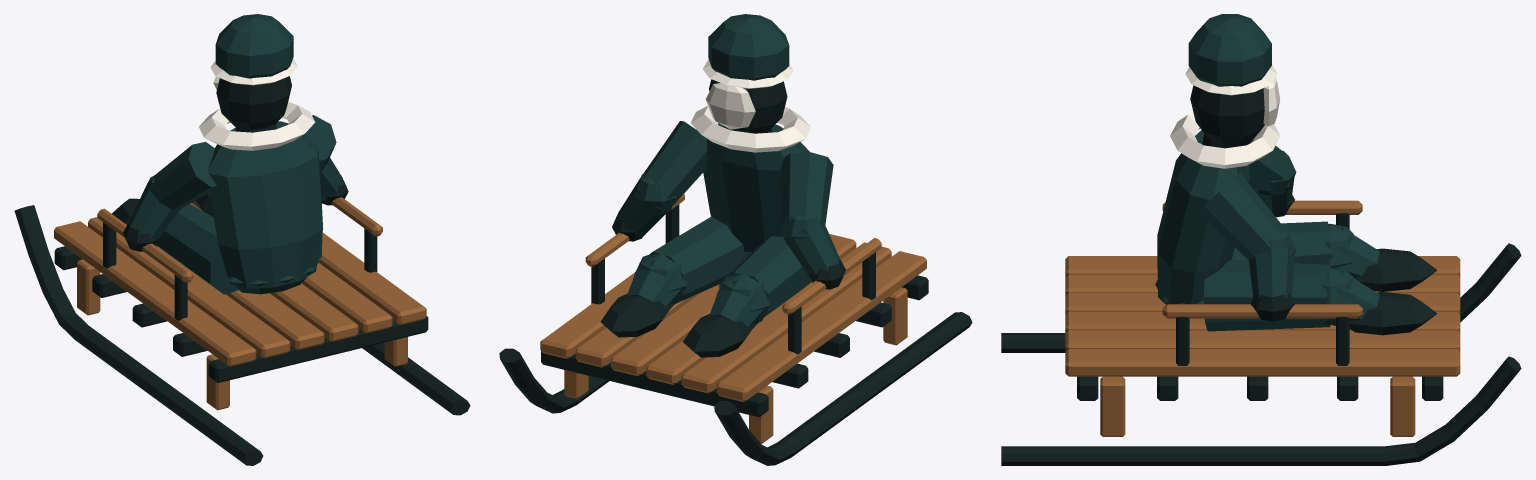
File: sled_rider.glb
3 views of the same model, side by side, from view 1: azimuth 30°, elevation 25°; view 2: azimuth 150°, elevation 25°; view 3: azimuth 270°, elevation 25° (orthographic). The views are drawn at different scales.
Parts seen in each view (by area): view 1: jacketTorso, runnerLeft, deckSlat_01, deckSlat_02, winterCap, thighLeft, crossMember_01, deckSlat_06, head, upperArmLeft, creamScarf, deckSlat_05 (+21 smaller); view 2: jacketTorso, deckSlat_01, runnerLeft, winterCap, deckSlat_02, thighRight, upperArmLeft, deckSlat_04, upperArmRight, thighLeft, crossMember_05, creamScarf (+29 smaller); view 3: runnerRight, deckSlat_06, jacketTorso, deckSlat_05, winterCap, thighRight, upperArmRight, head, deckSlat_04, runnerLeft, creamScarf, deckSlat_02 (+27 smaller).
Boxes of the visible parts, box(x1,y1,x2,y2) form: jacketTorso: box(208, 121, 322, 288); runnerLeft: box(14, 205, 263, 465); deckSlat_01: box(54, 221, 256, 366); deckSlat_02: box(88, 213, 290, 358); winterCap: box(215, 14, 293, 78); thighLeft: box(155, 204, 238, 294); crossMember_01: box(208, 316, 428, 382); deckSlat_06: box(319, 232, 426, 325); head: box(216, 76, 291, 129); upperArmLeft: box(149, 142, 216, 210); creamScarf: box(199, 102, 315, 150); deckSlat_05: box(192, 201, 392, 333); jacketTorso: box(703, 123, 809, 252); deckSlat_01: box(717, 251, 926, 402); runnerLeft: box(714, 312, 972, 465); winterCap: box(708, 14, 789, 80); deckSlat_02: box(681, 242, 891, 393); thighRight: box(648, 217, 744, 303); upperArmLeft: box(780, 152, 833, 226); deckSlat_04: box(611, 284, 719, 376); upperArmRight: box(643, 121, 707, 205); thighLeft: box(719, 236, 811, 317); crossMember_05: box(541, 351, 768, 417); creamScarf: box(691, 106, 811, 152); runnerRight: box(1001, 356, 1521, 465); deckSlat_06: box(1065, 349, 1460, 376); jacketTorso: box(1157, 130, 1249, 304); deckSlat_05: box(1065, 330, 1460, 351); winterCap: box(1188, 14, 1271, 86); thighRight: box(1203, 260, 1330, 331); upperArmRight: box(1198, 173, 1286, 260); head: box(1190, 85, 1264, 147); deckSlat_04: box(1065, 311, 1460, 332); runnerLeft: box(1001, 243, 1521, 352); creamScarf: box(1170, 112, 1280, 168); deckSlat_02: box(1065, 274, 1460, 295).
Bounding box in the file's own units: 1.17 × 1.72 × 2.08.
